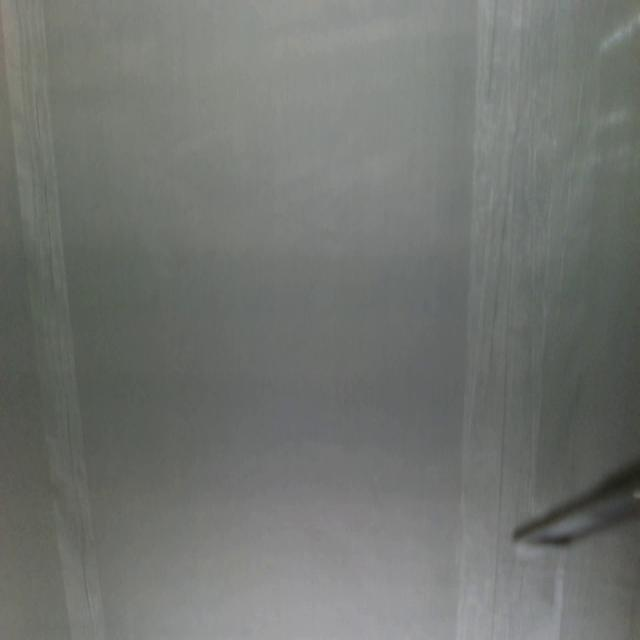crease: (0, 0, 106, 640), (459, 0, 580, 499)
